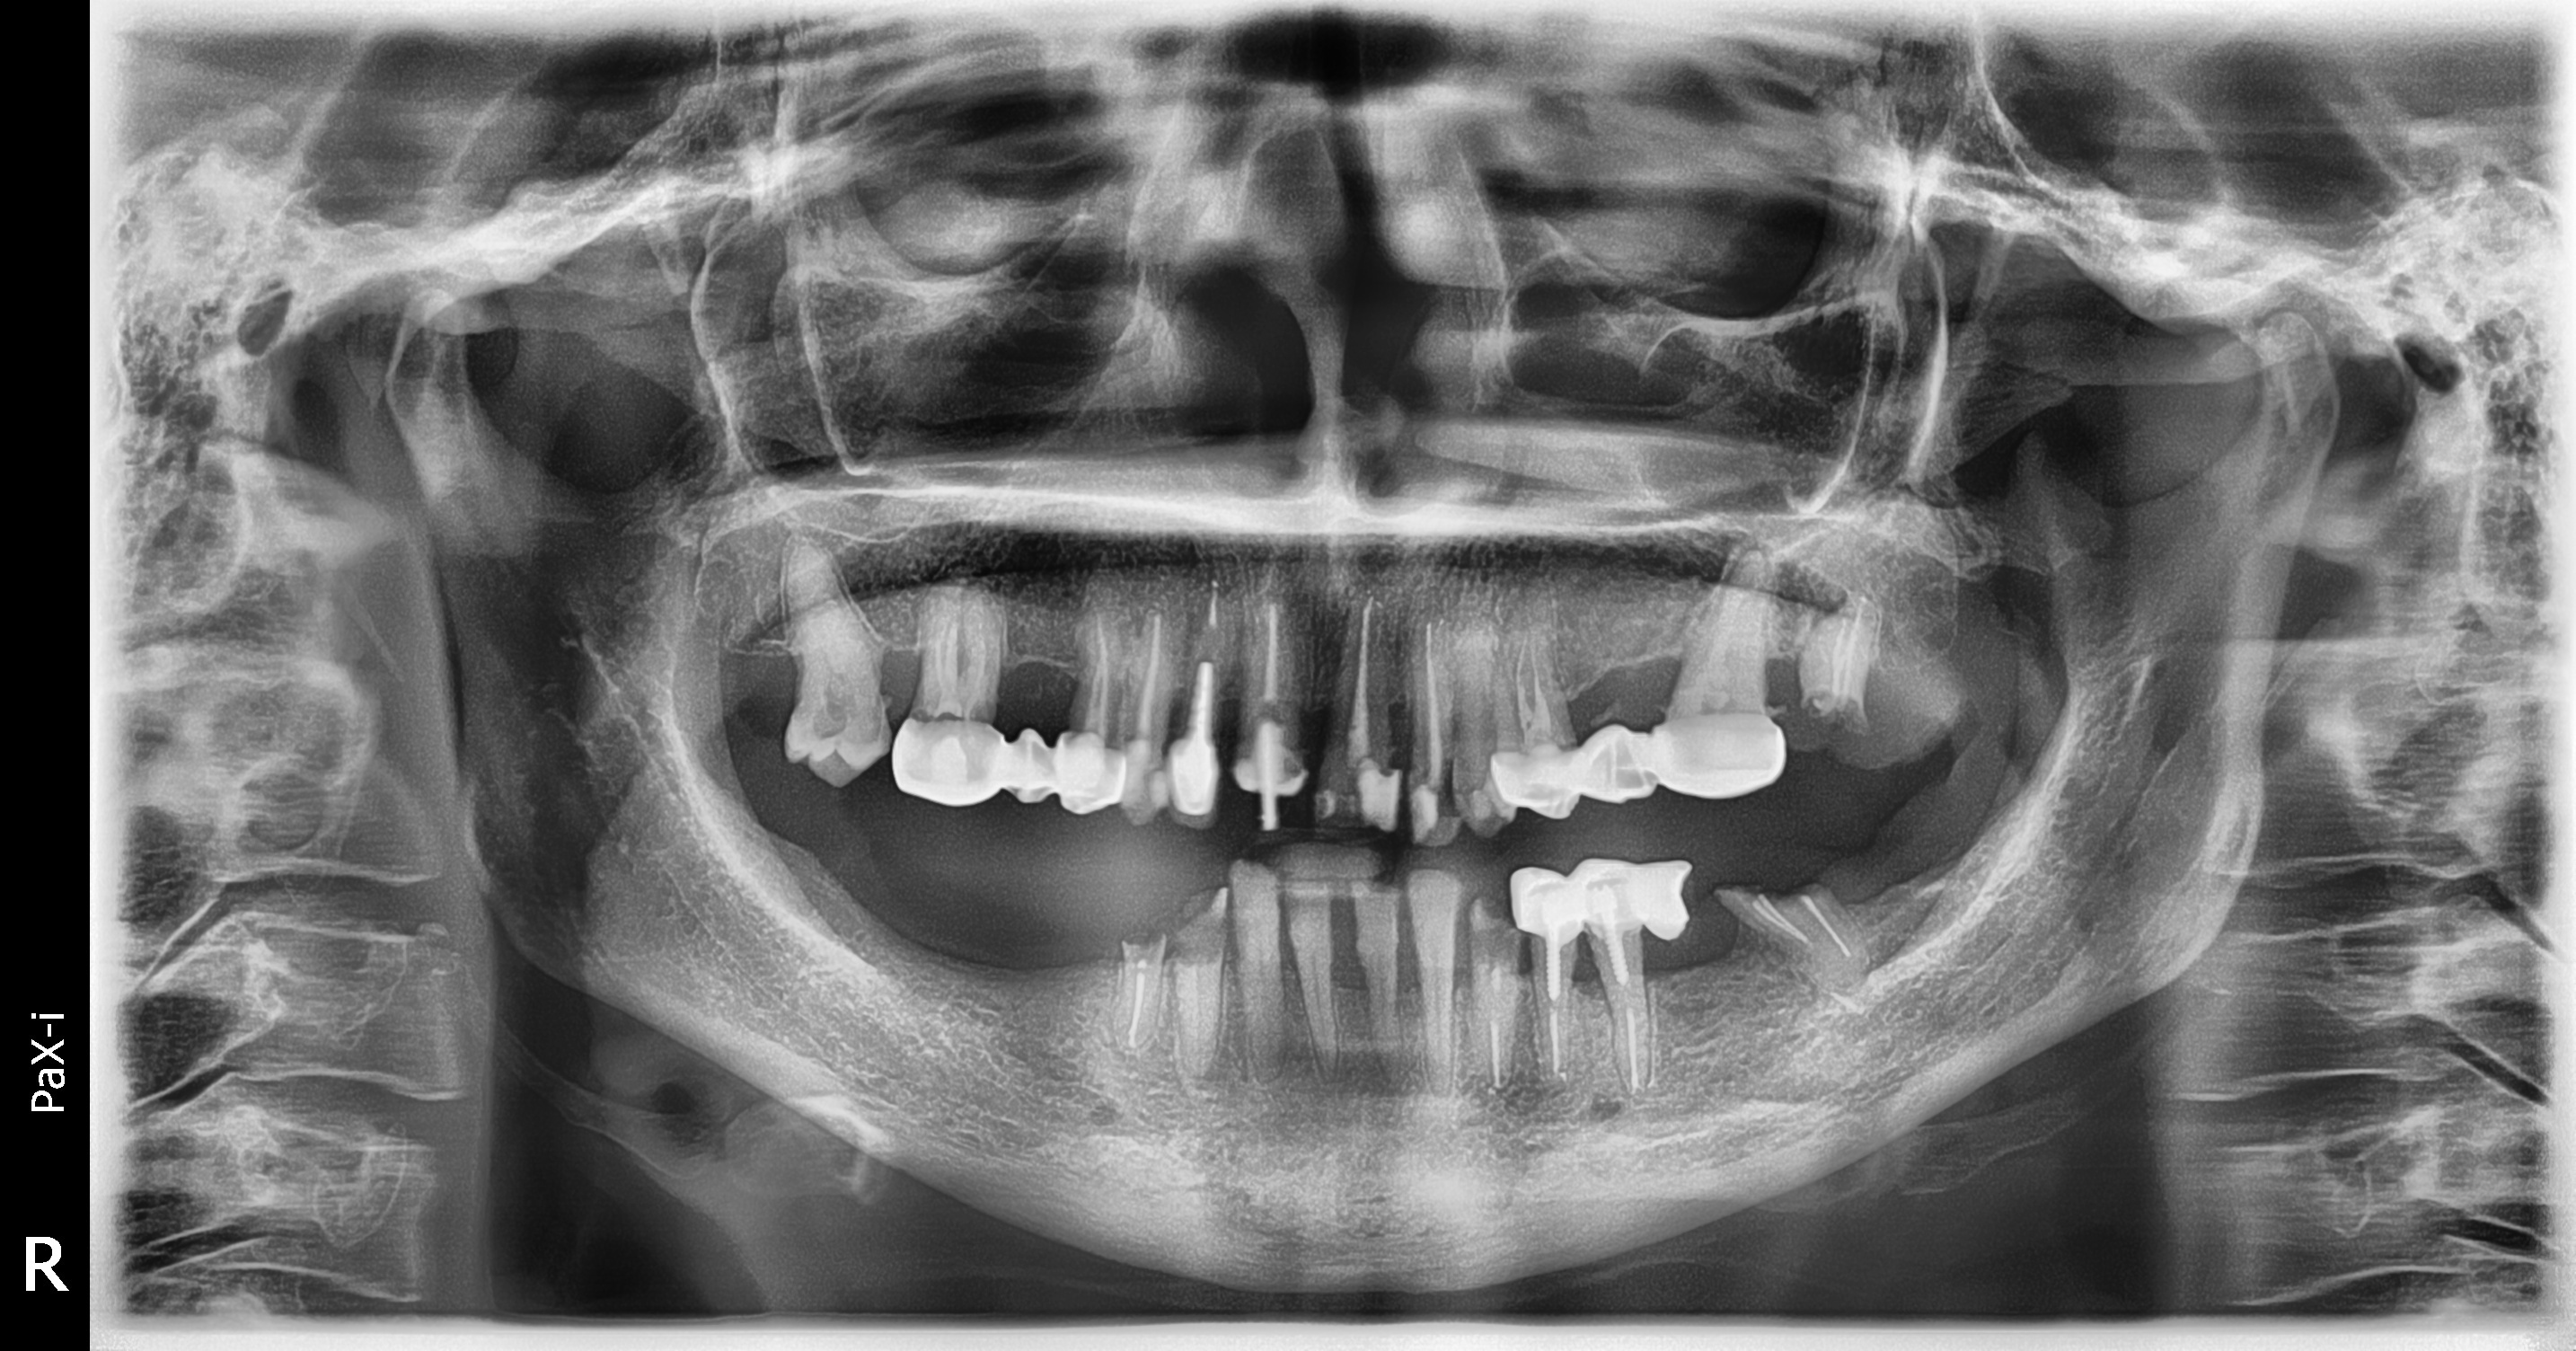BON: (1573, 976, 1607, 1000)
CAR: (813, 700, 847, 738)
END: (934, 618, 985, 719)
OBT: (1119, 738, 1152, 809)
PRR: (893, 719, 1126, 813)
ROT: (1712, 881, 1871, 993)
